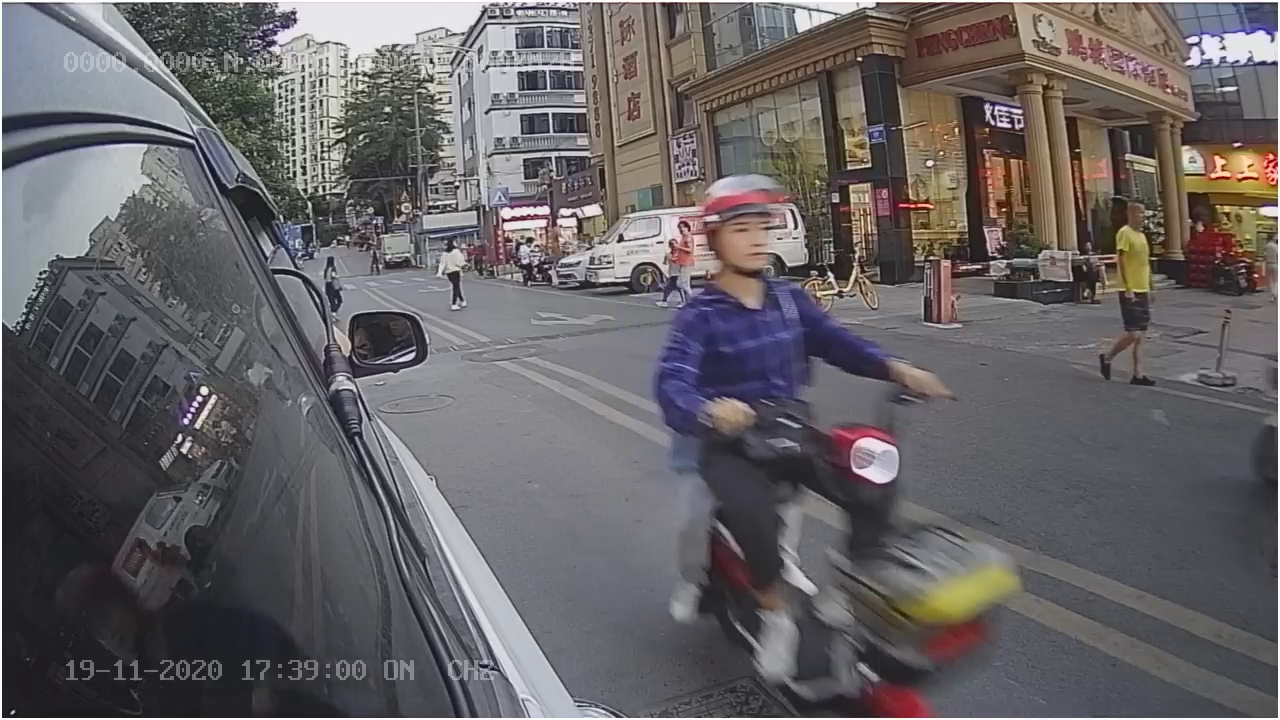person: (664, 178, 831, 445)
